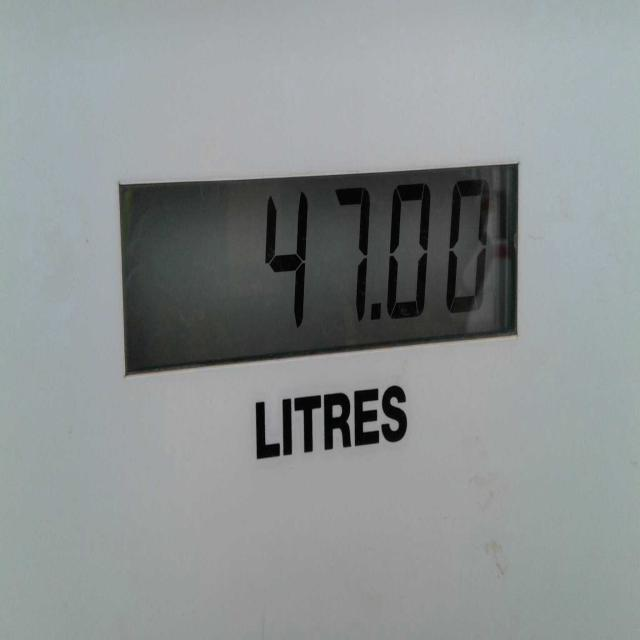.: (371, 297, 382, 320)
0: (388, 190, 429, 326), (450, 175, 488, 318)
4: (266, 189, 308, 332)
7: (331, 185, 366, 331)
